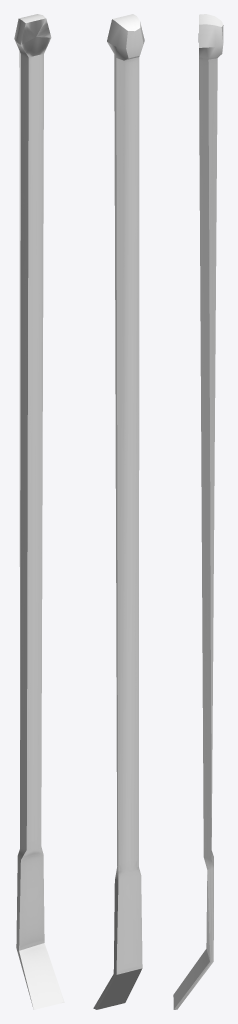
The model's file is Spatula_Flat_angle_Colldr.fbx.
The picture shows the model from 3 angles, left to right: view 1: azimuth 30°, elevation 25°; view 2: azimuth 210°, elevation 25°; view 3: azimuth 270°, elevation 25°; orthographic projection. The views are drawn at different scales.
Parts seen in each view (by area): view 1: Spatula_Flat_angle_Colldr1; view 2: Spatula_Flat_angle_Colldr1; view 3: Spatula_Flat_angle_Colldr1.
Boxes of the visible parts, x1=… form: Spatula_Flat_angle_Colldr1: x1=14, y1=14, x2=64, y2=1009; Spatula_Flat_angle_Colldr1: x1=93, y1=14, x2=144, y2=1009; Spatula_Flat_angle_Colldr1: x1=173, y1=14, x2=223, y2=1009.
Bounding box in the file's own units: 0.7417 × 21.94 × 1.01.
